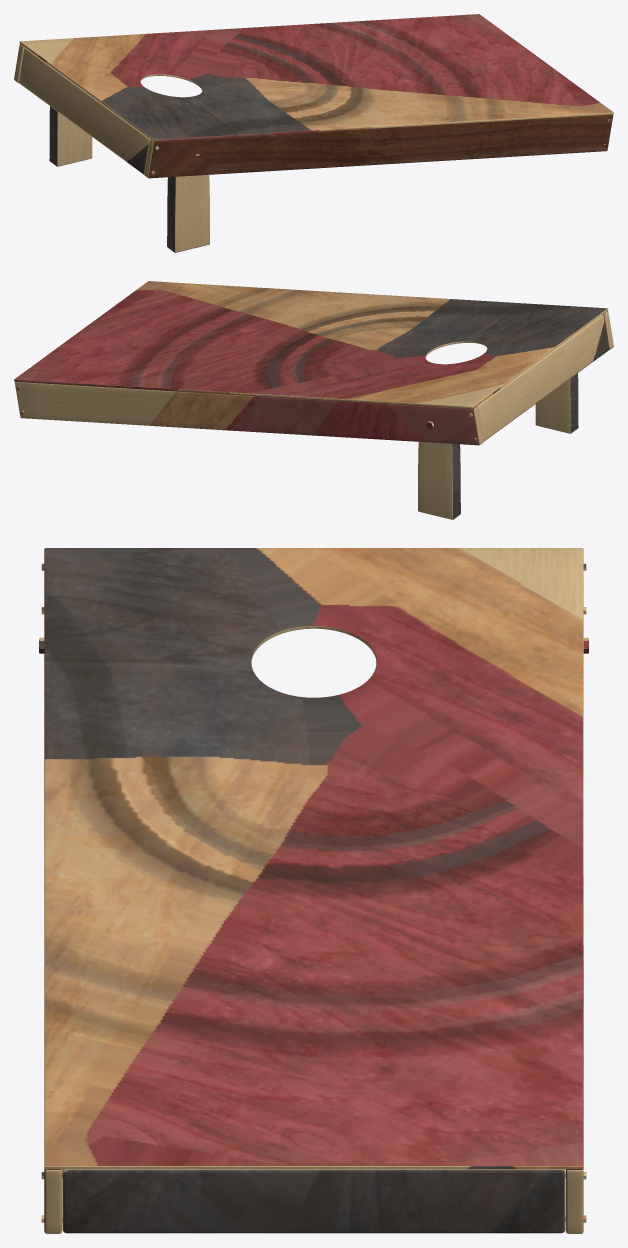
File: cormhole_Table_V5.fbx
3 renders of one model, top to bottom at view 1: azimuth 30°, elevation 25°; view 2: azimuth 150°, elevation 25°; view 3: azimuth 270°, elevation 25°, orthographic. The views are drawn at different scales.
Parts seen in each view (by area): view 1: Object_16; view 2: Object_16; view 3: Object_16.
Part boxes in pixels (box(x1,y1,x2,y2)): Object_16: box(14, 14, 613, 252); Object_16: box(14, 281, 613, 519); Object_16: box(39, 548, 588, 1233).
Size of the model in its own units: 162 by 40.94 by 83.
